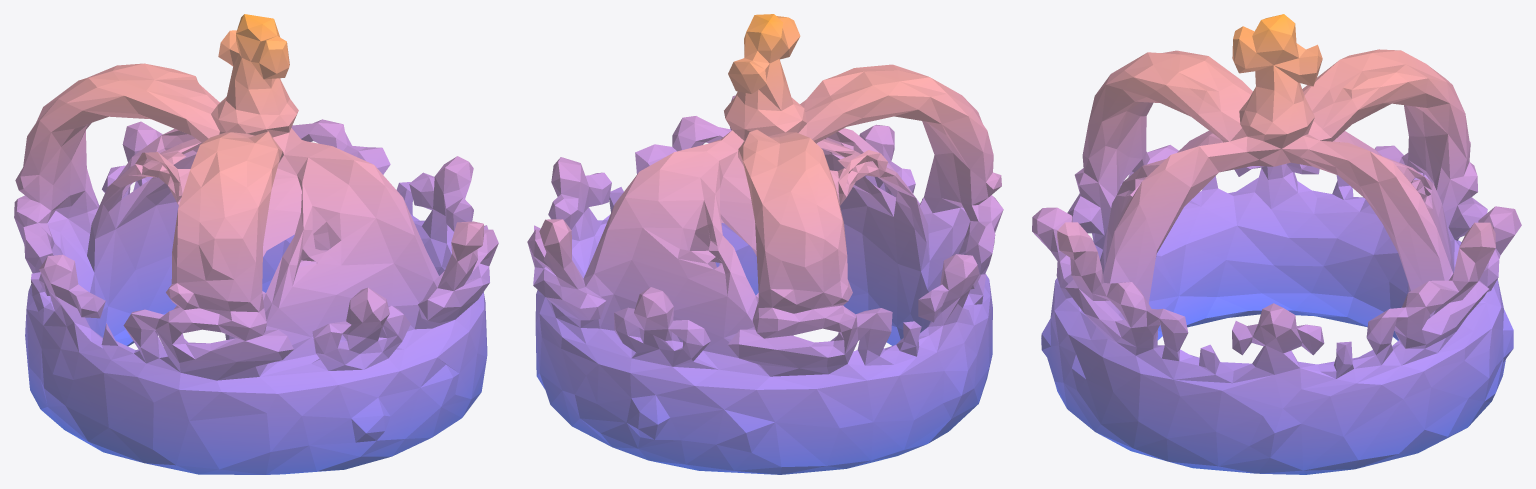
The model's file is 77_cyb_laser_gradient_fish_scales_2860_2026_10_03_781c78.glb.
3 views of the same model, side by side, from view 1: azimuth 30°, elevation 25°; view 2: azimuth 150°, elevation 25°; view 3: azimuth 270°, elevation 25° (orthographic).
Visible parts, largest first — view 1: geometry_0; view 2: geometry_0; view 3: geometry_0.
Part boxes in pixels (bbox=[...]): geometry_0: bbox=[14, 14, 498, 474]; geometry_0: bbox=[527, 14, 1003, 474]; geometry_0: bbox=[1032, 14, 1521, 474].
Size of the model in its own units: 0.9915 by 0.8301 by 0.9929.
